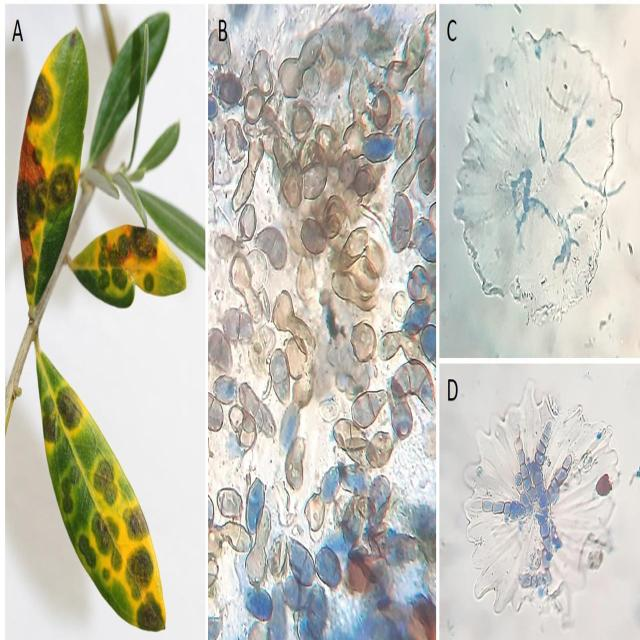Peacock Eye: (36, 351, 166, 631), (16, 28, 88, 312), (68, 226, 186, 308)
